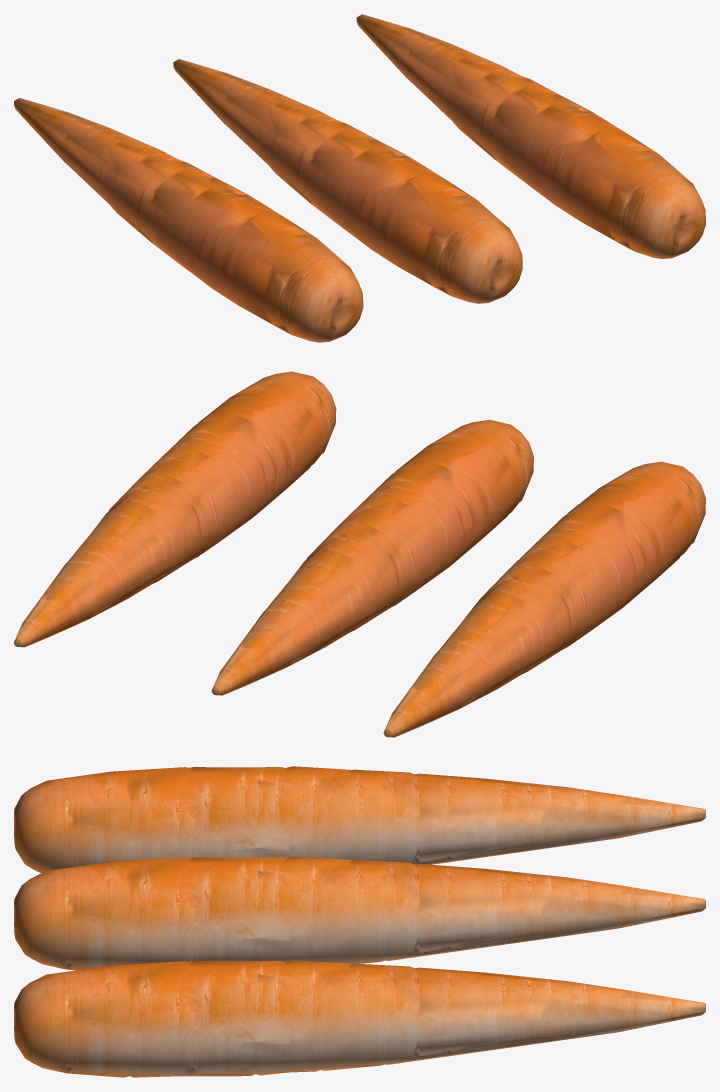
Rendered from carot.fbx.
3 renders of one model, top to bottom at view 1: azimuth 30°, elevation 25°; view 2: azimuth 150°, elevation 25°; view 3: azimuth 270°, elevation 25°, orthographic. The views are drawn at different scales.
Visible parts, largest first — view 1: polymsh; view 2: polymsh; view 3: polymsh.
Part boxes in pixels (left/top/right/bottom): polymsh: left=14, top=14, right=705, bottom=342; polymsh: left=14, top=371, right=705, bottom=737; polymsh: left=14, top=766, right=705, bottom=1077.
Size of the model in its own units: 125 by 25.08 by 150.
